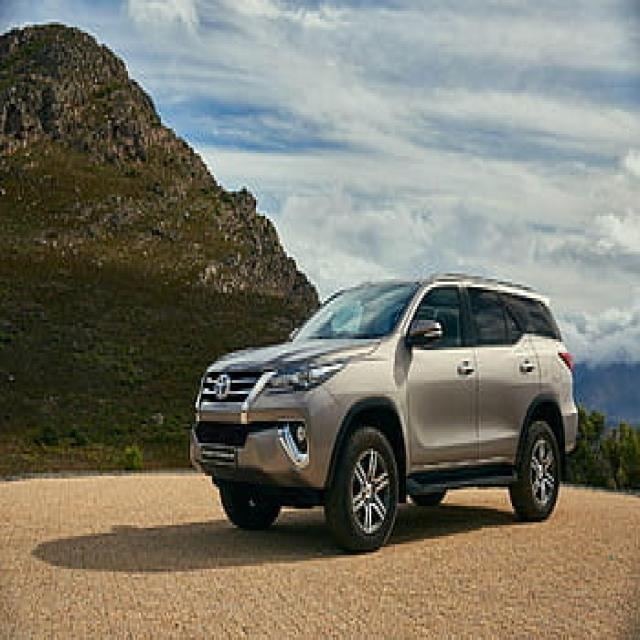light_vehicle: (188, 275, 580, 556)
